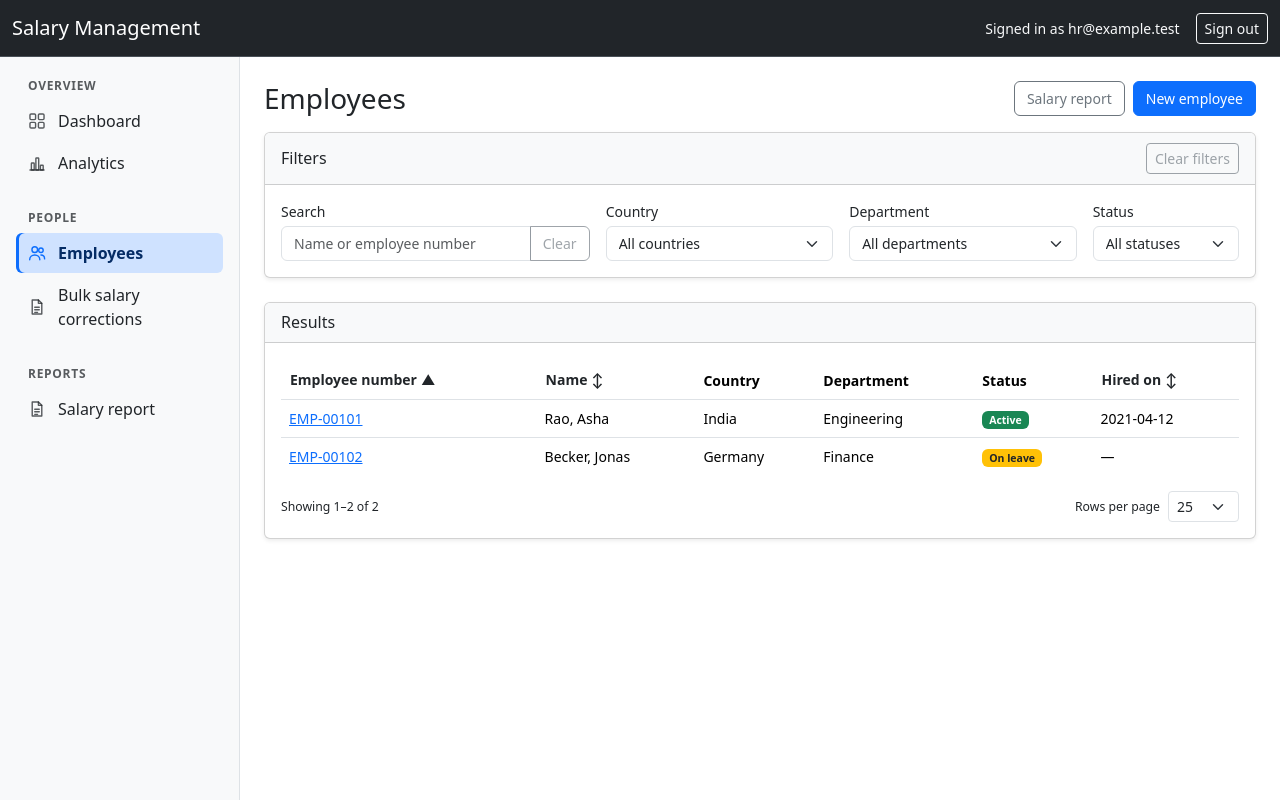
Scenario: SalaryReportPage › is linked from the sidebar and the employee list, with the applied date
Click the link "Salary report" next to "New employee" at {"x": 1069, "y": 98}, box 1014,81 -> 1125,116
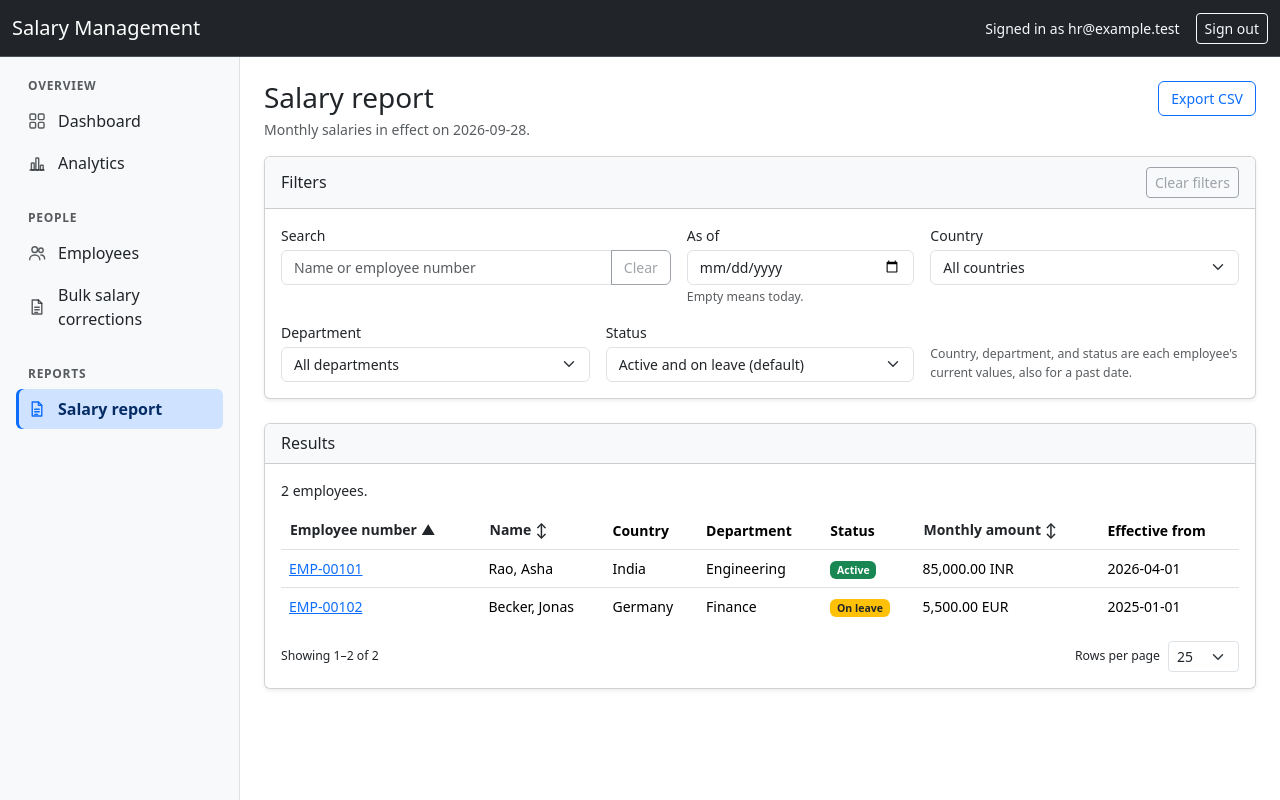
Check: the text "Monthly salaries in effect on 2026-09-28." is shown, box 264,119 -> 530,140
